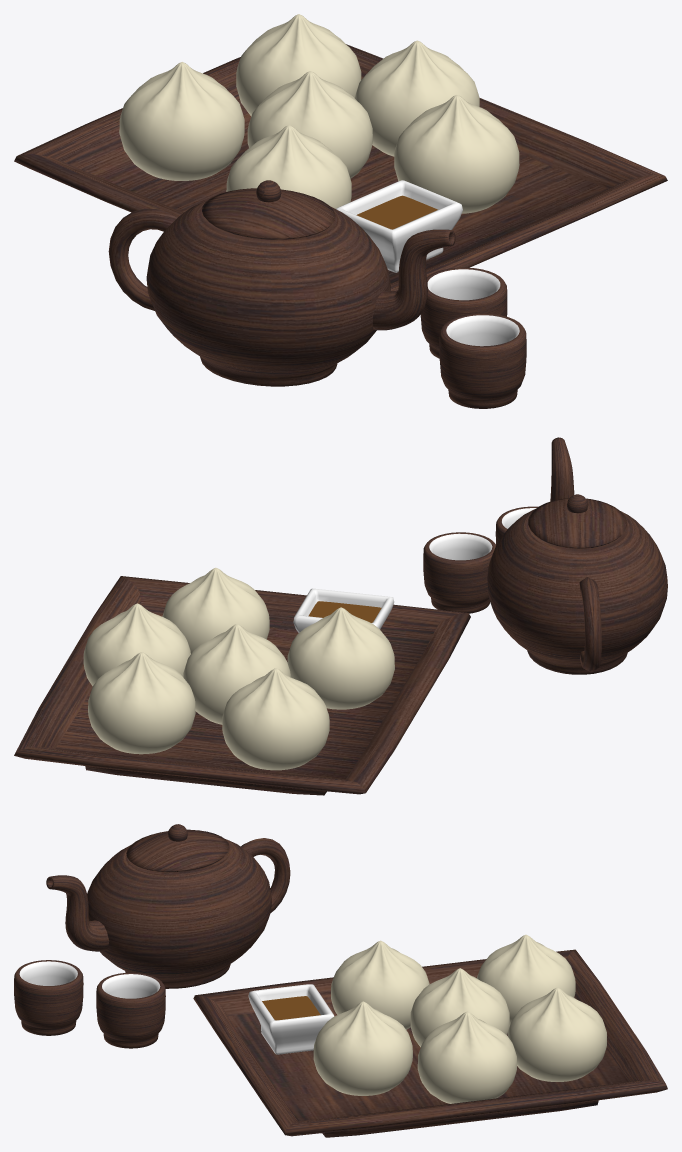
The model's file is Food_Dumpling.fbx.
3 renders of one model, top to bottom at view 1: azimuth 30°, elevation 25°; view 2: azimuth 150°, elevation 25°; view 3: azimuth 270°, elevation 25°, orthographic. The views are drawn at different scales.
Parts seen in each view (by area): view 1: Dumpling, Tea pot, Plate, Tea cup, Sauce, Tea cup.001; view 2: Dumpling, Plate, Tea pot, Tea cup.001, Sauce, Tea cup; view 3: Dumpling, Tea pot, Plate, Tea cup.001, Tea cup, Sauce.
Boxes of the visible parts, bbox=[...] form: Dumpling: bbox=[119, 14, 519, 213]; Tea pot: bbox=[108, 180, 455, 386]; Plate: bbox=[14, 44, 667, 290]; Tea cup: bbox=[439, 313, 526, 408]; Sauce: bbox=[336, 180, 462, 272]; Tea cup.001: bbox=[420, 267, 507, 358]; Dumpling: bbox=[83, 567, 394, 770]; Plate: bbox=[14, 576, 470, 795]; Tea pot: bbox=[487, 437, 667, 674]; Tea cup.001: bbox=[423, 532, 496, 613]; Sauce: bbox=[293, 588, 394, 632]; Tea cup: bbox=[495, 506, 537, 544]; Dumpling: bbox=[313, 934, 606, 1103]; Tea pot: bbox=[46, 824, 290, 988]; Plate: bbox=[193, 949, 667, 1137]; Tea cup.001: bbox=[96, 972, 165, 1048]; Tea cup: bbox=[14, 960, 83, 1035]; Sauce: bbox=[248, 984, 334, 1054].
Size of what is drawn, in the model's own units: 250 by 87.03 by 315.
Materials: 4 (1 with a texture image).
